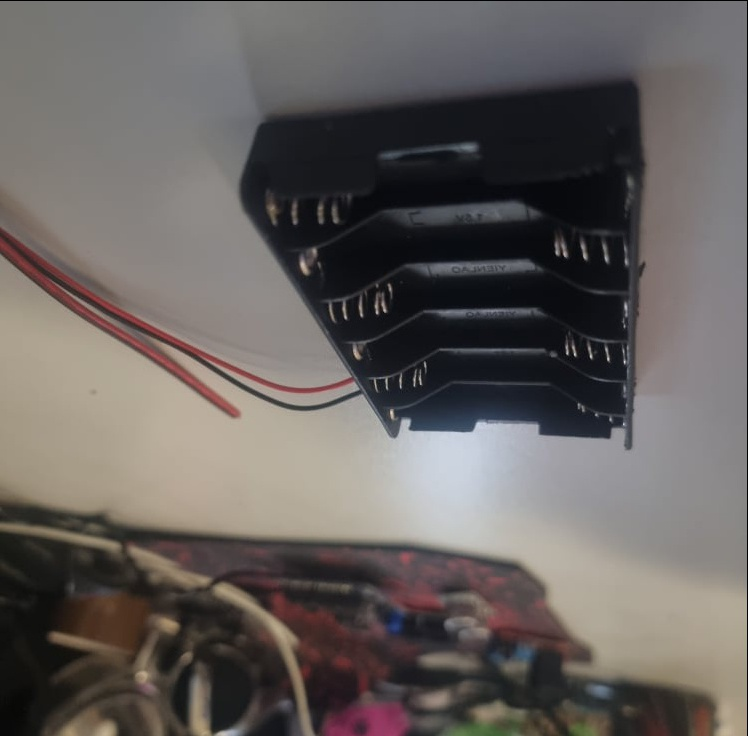BATTERY BOX: (240, 79, 644, 447)
